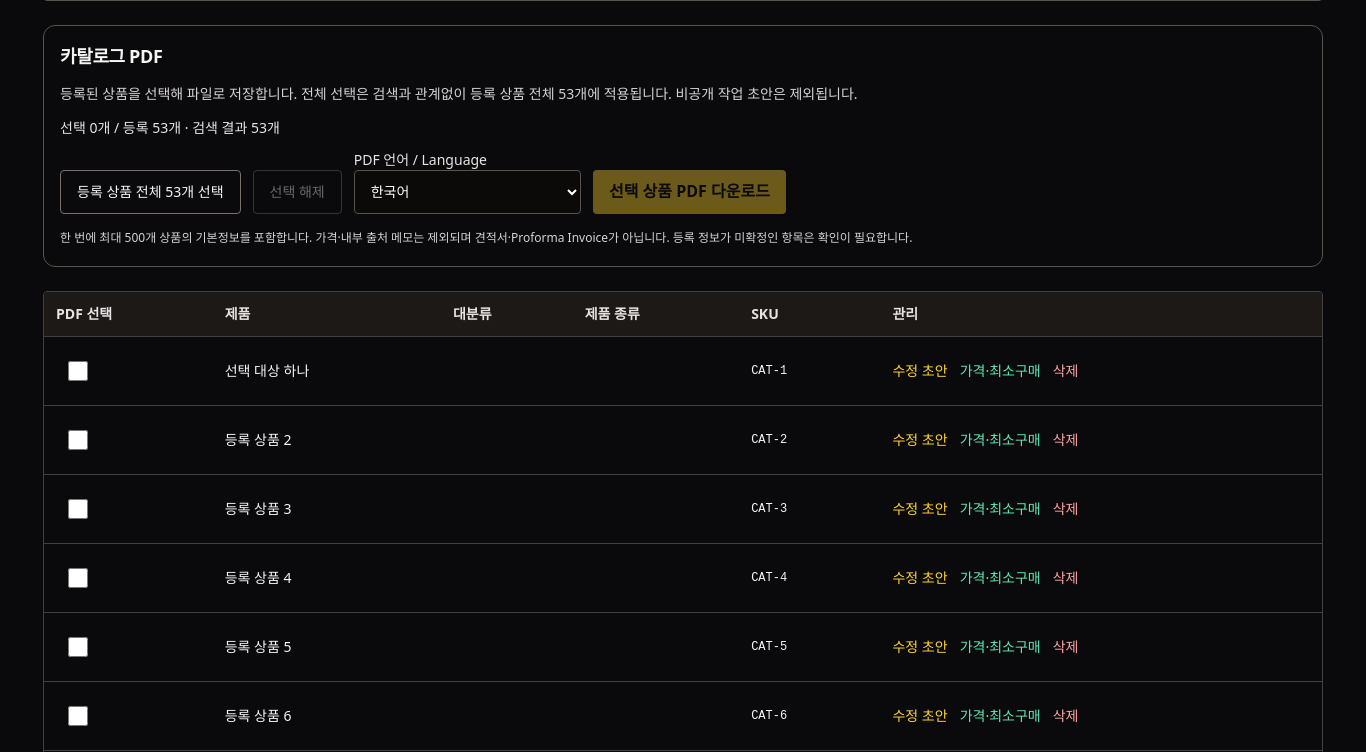
Test case: a forbidden snapshot asks for authentication and keeps the selected products without rendering or downloading
(page scrolled)
Expected: the button "등록 상품 전체 53개 선택" is enabled, [60, 170, 240, 214]
Click the checkbox named "선택 대상 하나 PDF 선택" next to "선택 대상 하나".
click(78, 371)  # box [68, 361, 88, 381]
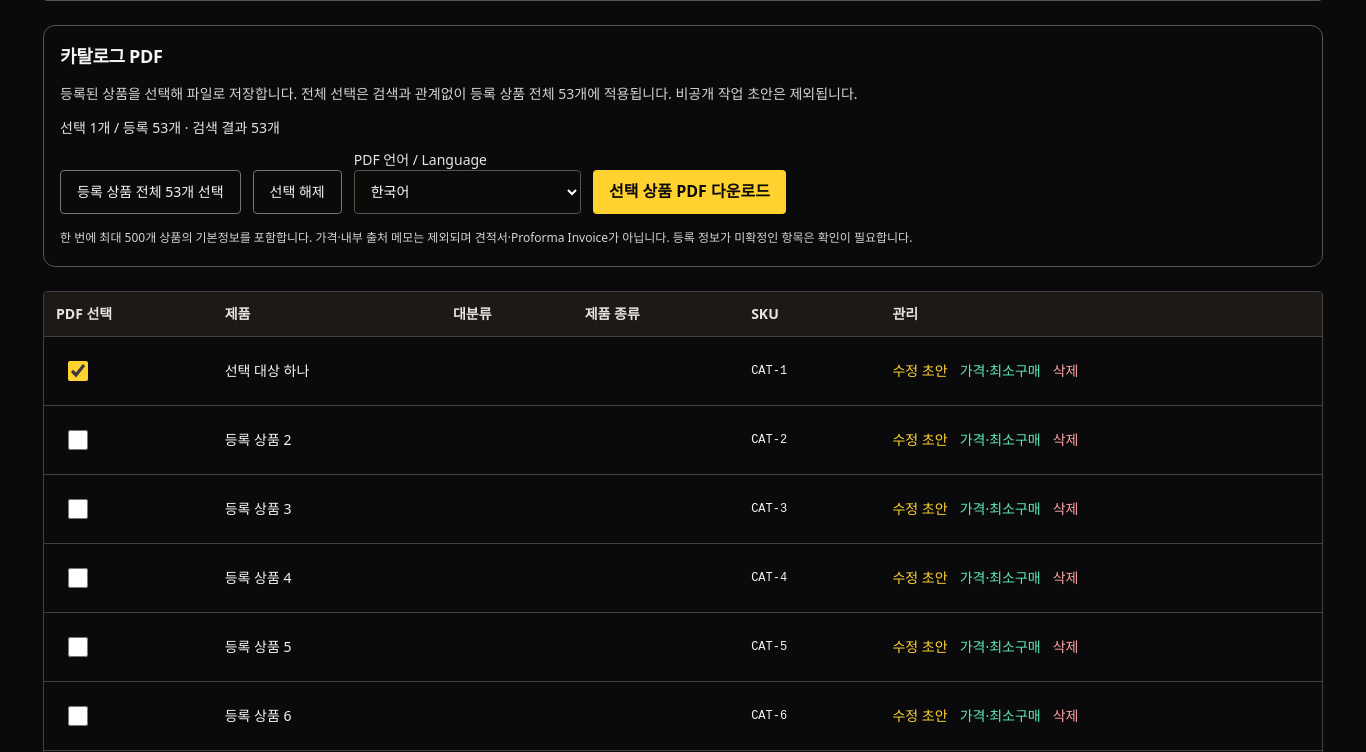
Click the button "선택 상품 PDF 다운로드".
click(689, 192)  # box [593, 170, 786, 214]
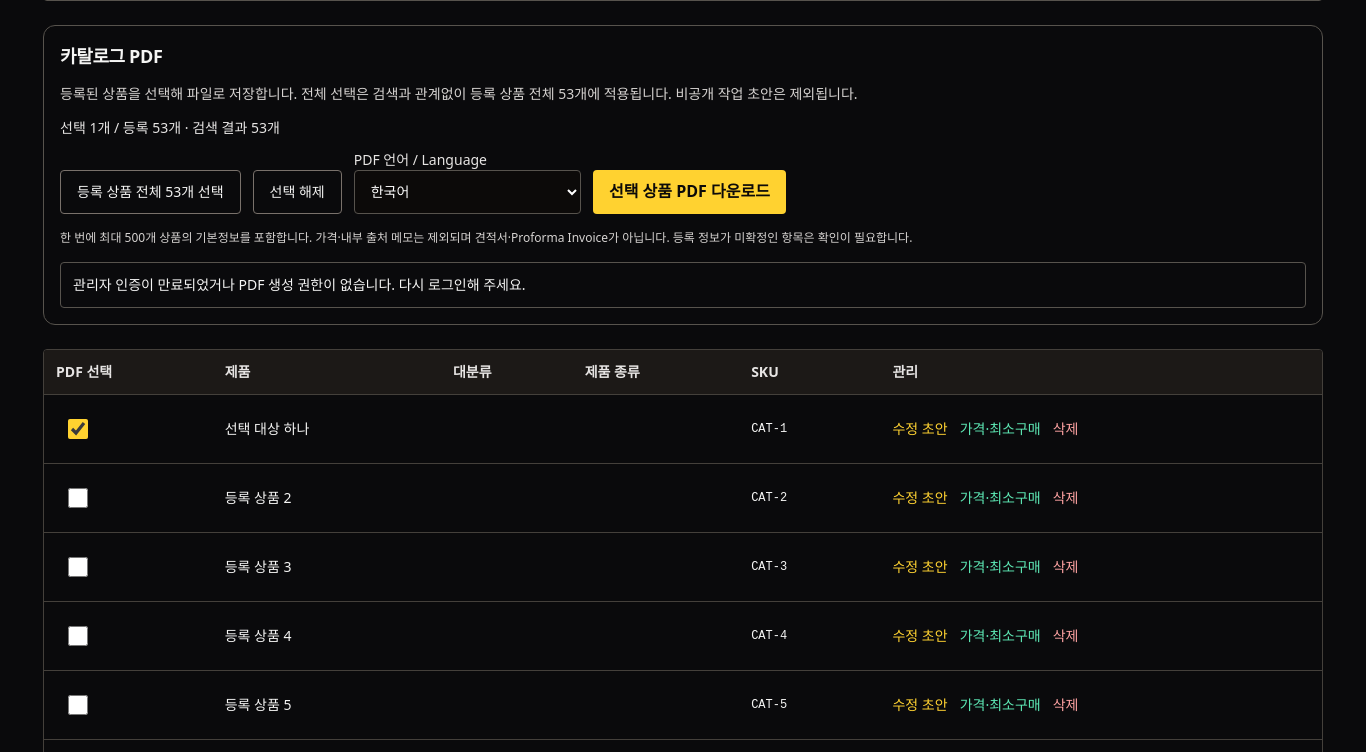
Expected: the checkbox named "선택 대상 하나 PDF 선택" next to "선택 대상 하나" is checked, [68, 419, 88, 439]
Expected: the button "선택 상품 PDF 다운로드" is enabled, [593, 170, 786, 214]
Expected: the message shows "다시 로그인해 주세요.", [73, 275, 526, 294]
